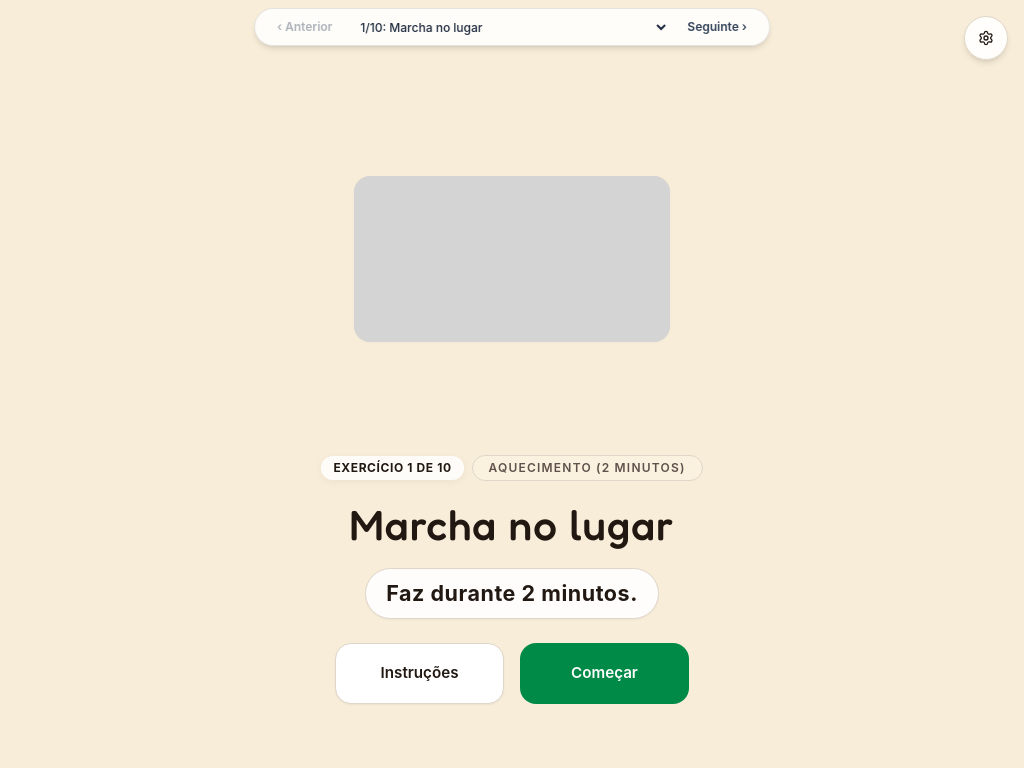
Test: exercise programme › starts Marcha after a three-second preparation countdown
The width and height of the screenshot is (1024, 768).
Later steps or results of the test are not shown.
Expected: the heading "Marcha no lugar" is shown, [349,493,675,556]
Click the button "Começar" at x=604, y=673, box [520,643,689,704]
Wait 3100 ms
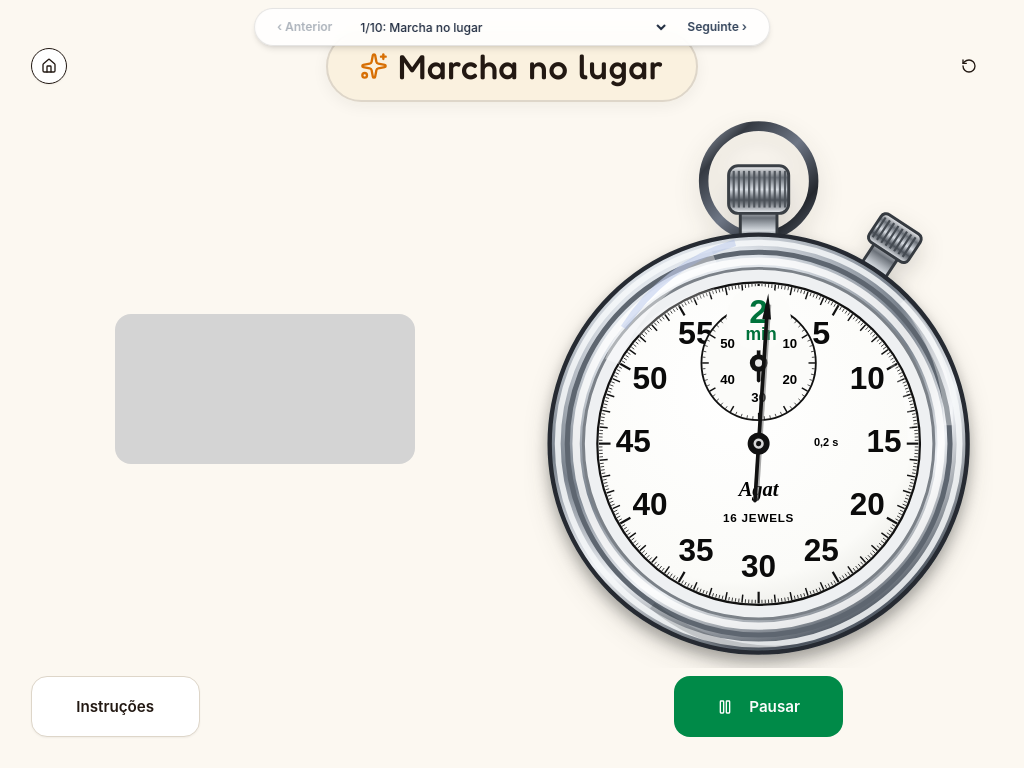
Expected: the heading "Marcha no lugar" is shown, [398,45,664,88]
Expected: the button "Pausar" is shown, [674,676,843,737]
